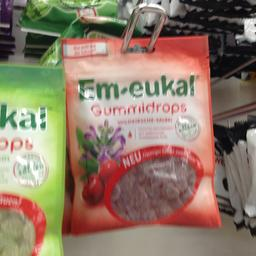candy: (58, 36, 222, 226), (0, 62, 79, 252)
